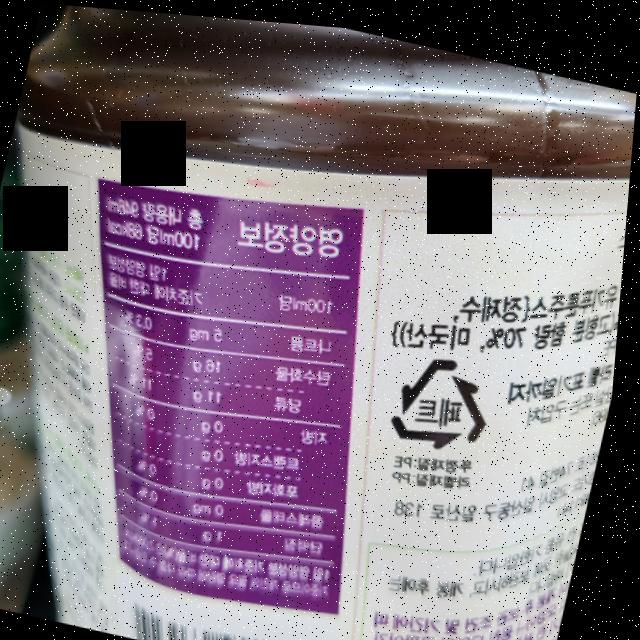PET: (391, 336, 511, 454)
